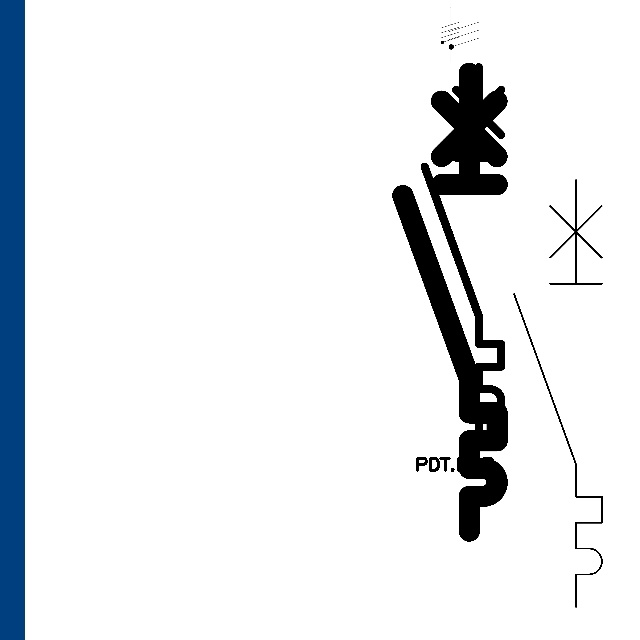interruptor_termomagnetico: (391, 61, 509, 542), (503, 169, 613, 618), (415, 57, 511, 450)
